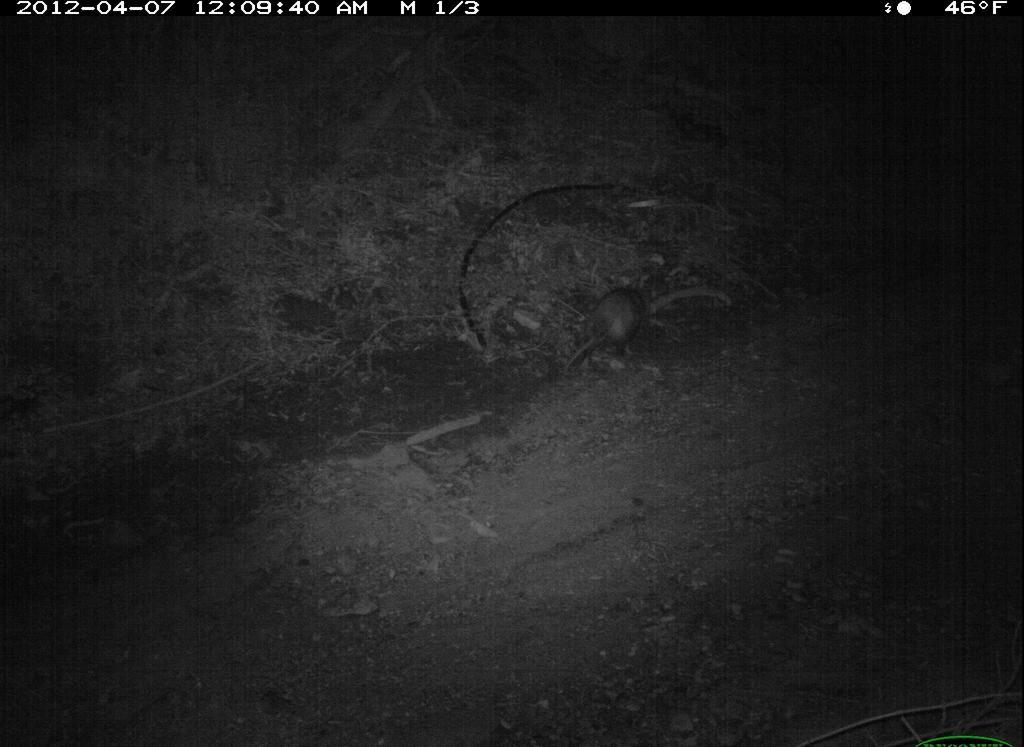opossum: (556, 280, 655, 382)
